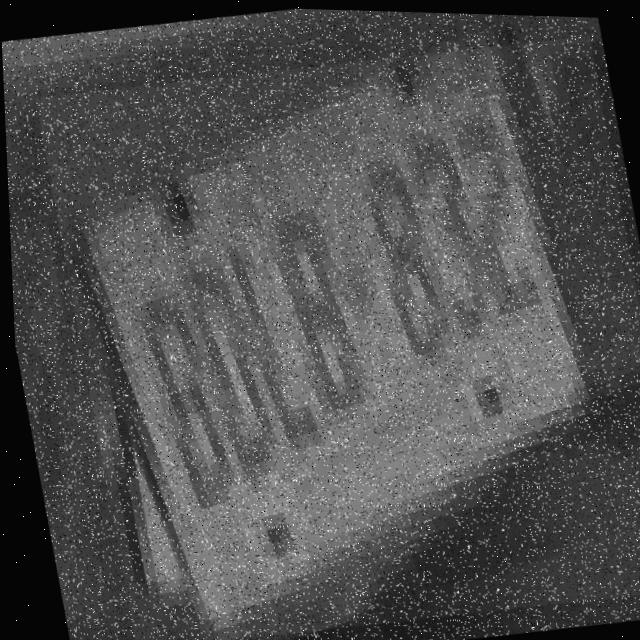LicensePlate: (32, 19, 640, 640)
